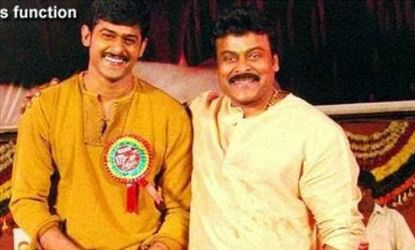bad: (89, 20, 141, 72), (216, 44, 268, 95)
